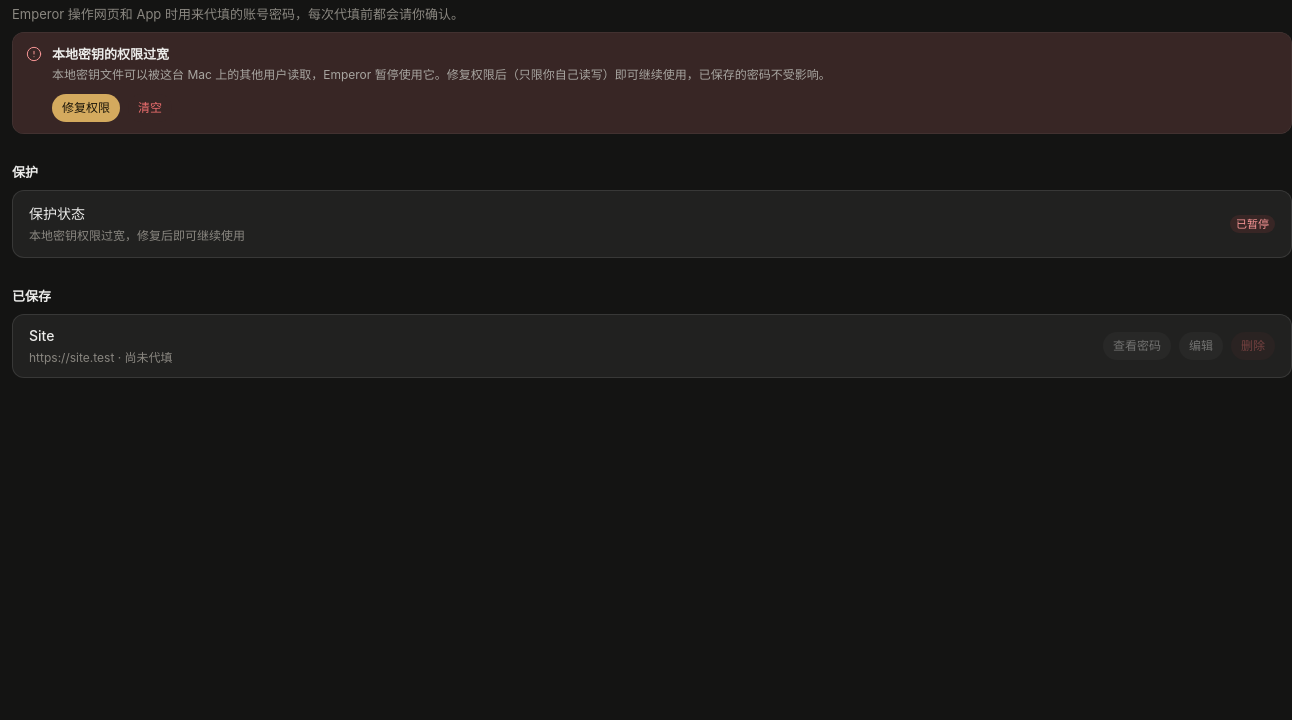
credential vault settings › offers 修复权限 first when the local key is open to others (SEC-09 #3)
Expected: the message with class "ds-notice" shows "权限", [12,32,1291,134]
Click the button "修复权限" at [86, 108], box [52,94,120,122]
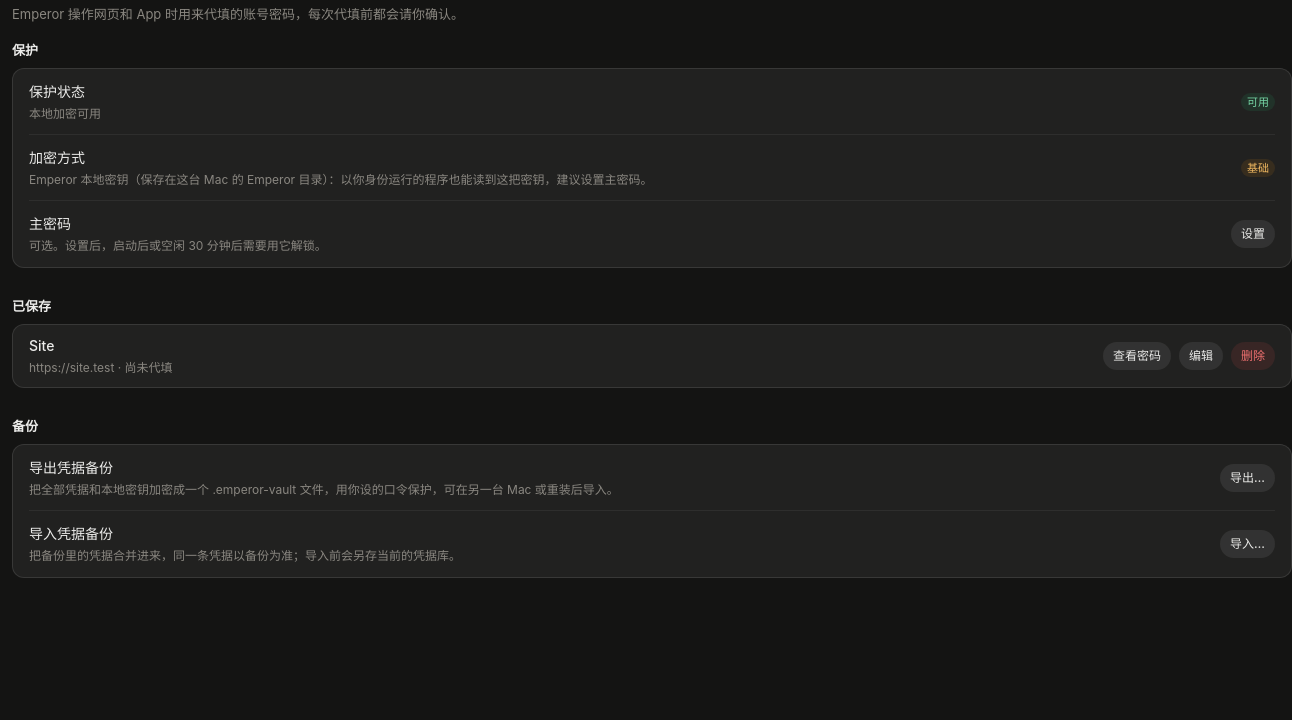
Expected: the message with class "ds-notice" is gone
